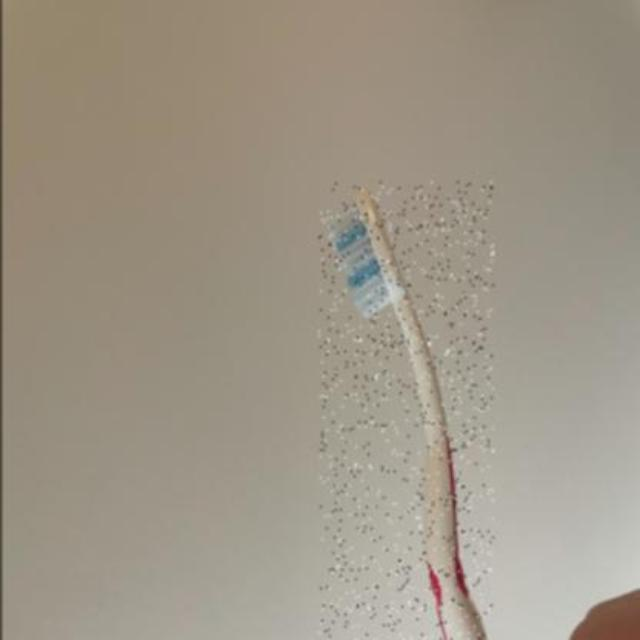toothbrush: (318, 182, 492, 640)
